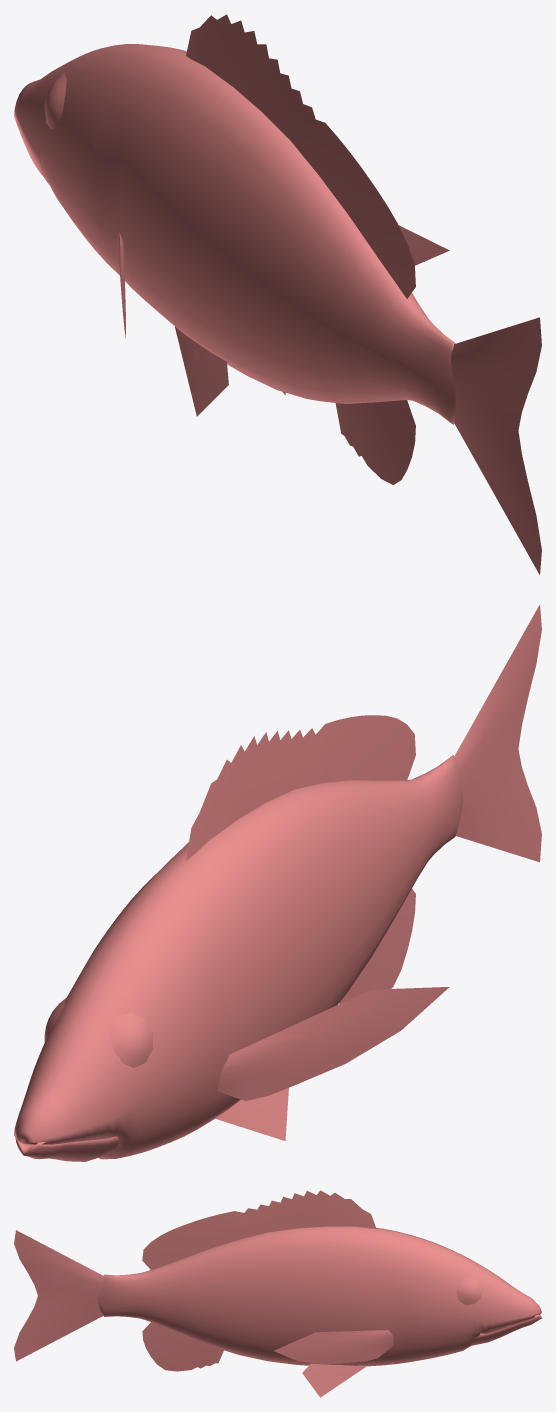
The model's file is snapper_lo.glb.
3 views of the same model, one above another, from view 1: azimuth 30°, elevation 25°; view 2: azimuth 150°, elevation 25°; view 3: azimuth 270°, elevation 25° (orthographic). The views are drawn at different scales.
Parts seen in each view (by area): view 1: snapper_lo; view 2: snapper_lo; view 3: snapper_lo.
Part boxes in pixels (x1,y1,x2,y2): snapper_lo: [14, 14, 541, 574]; snapper_lo: [14, 604, 541, 1161]; snapper_lo: [14, 1190, 541, 1397].
Bounding box in the file's own units: 0.2547 × 0.2884 × 0.7026.
